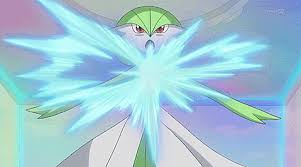gardevoir: (17, 9, 280, 167)
